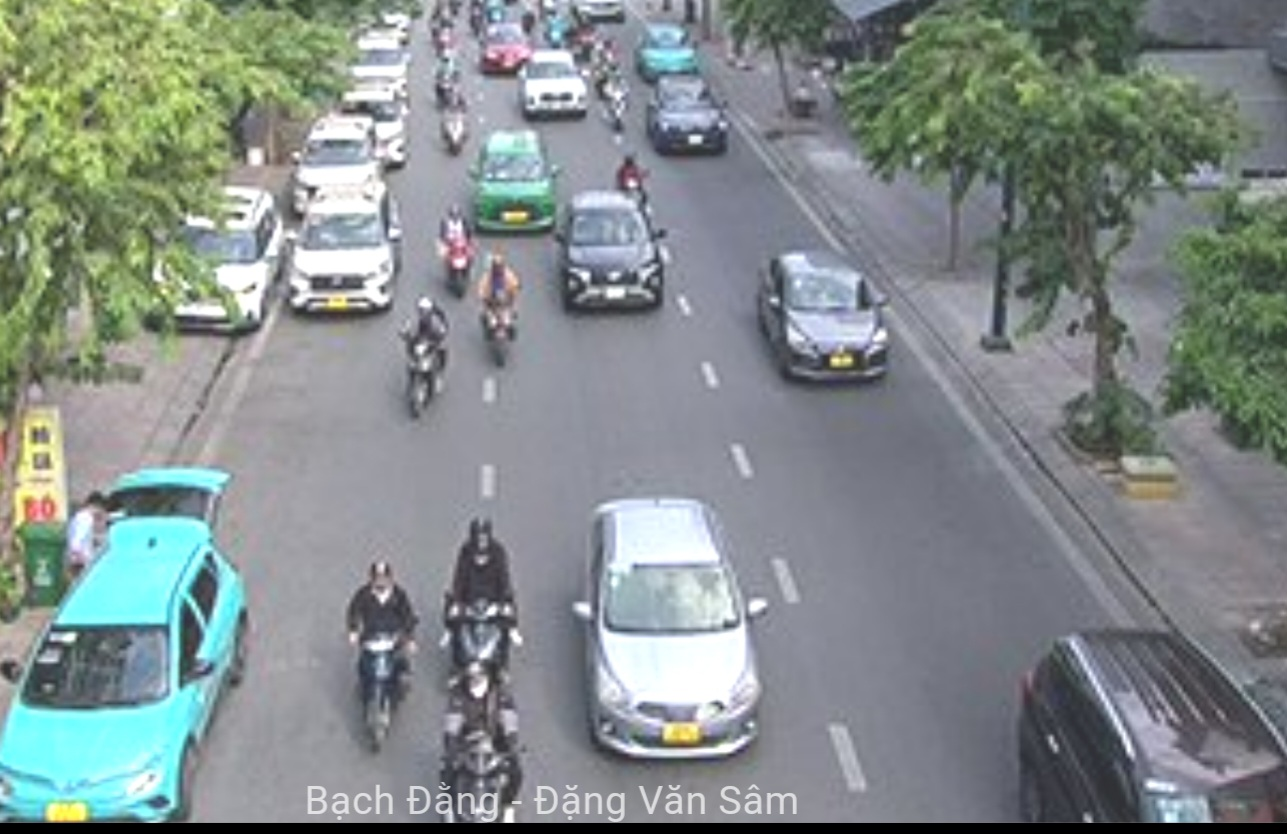car: (18, 515, 245, 832), (1022, 625, 1281, 834), (578, 493, 759, 755), (754, 255, 896, 384), (291, 186, 398, 320), (561, 196, 669, 320), (471, 127, 555, 234), (298, 113, 377, 189), (652, 84, 729, 157), (521, 53, 586, 117), (636, 28, 698, 76), (480, 27, 531, 71)
